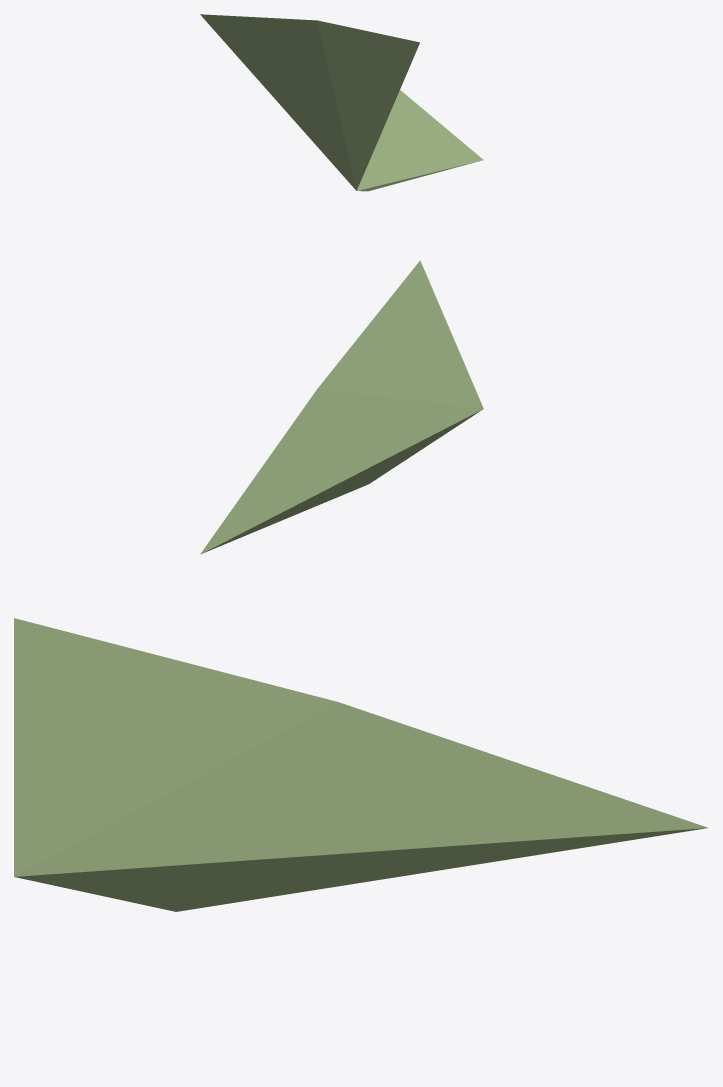
File: enemy_green.gltf
3 views of the same model, one above another, from view 1: azimuth 30°, elevation 25°; view 2: azimuth 150°, elevation 25°; view 3: azimuth 270°, elevation 25° (orthographic). The views are drawn at different scales.
Visible parts, largest first — view 1: GreenDefender; view 2: GreenDefender; view 3: GreenDefender.
Part boxes in pixels (box(x1,y1,x2,y2)): GreenDefender: box(200, 14, 483, 191); GreenDefender: box(200, 260, 483, 554); GreenDefender: box(14, 618, 708, 911).
Bounding box in the file's own units: 5 × 1.4 × 3.
